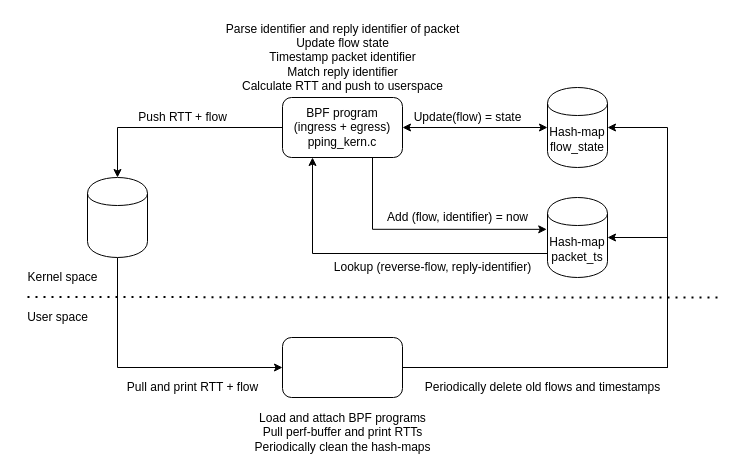
Image size: 736x474. Some labels were removed from this diagram. Here are the shapes that lost their labels. From the top down, the centre of each, then its label:
the point at 117,217: Perf-buffer events
the point at 342,367: Userspace program pping.c
